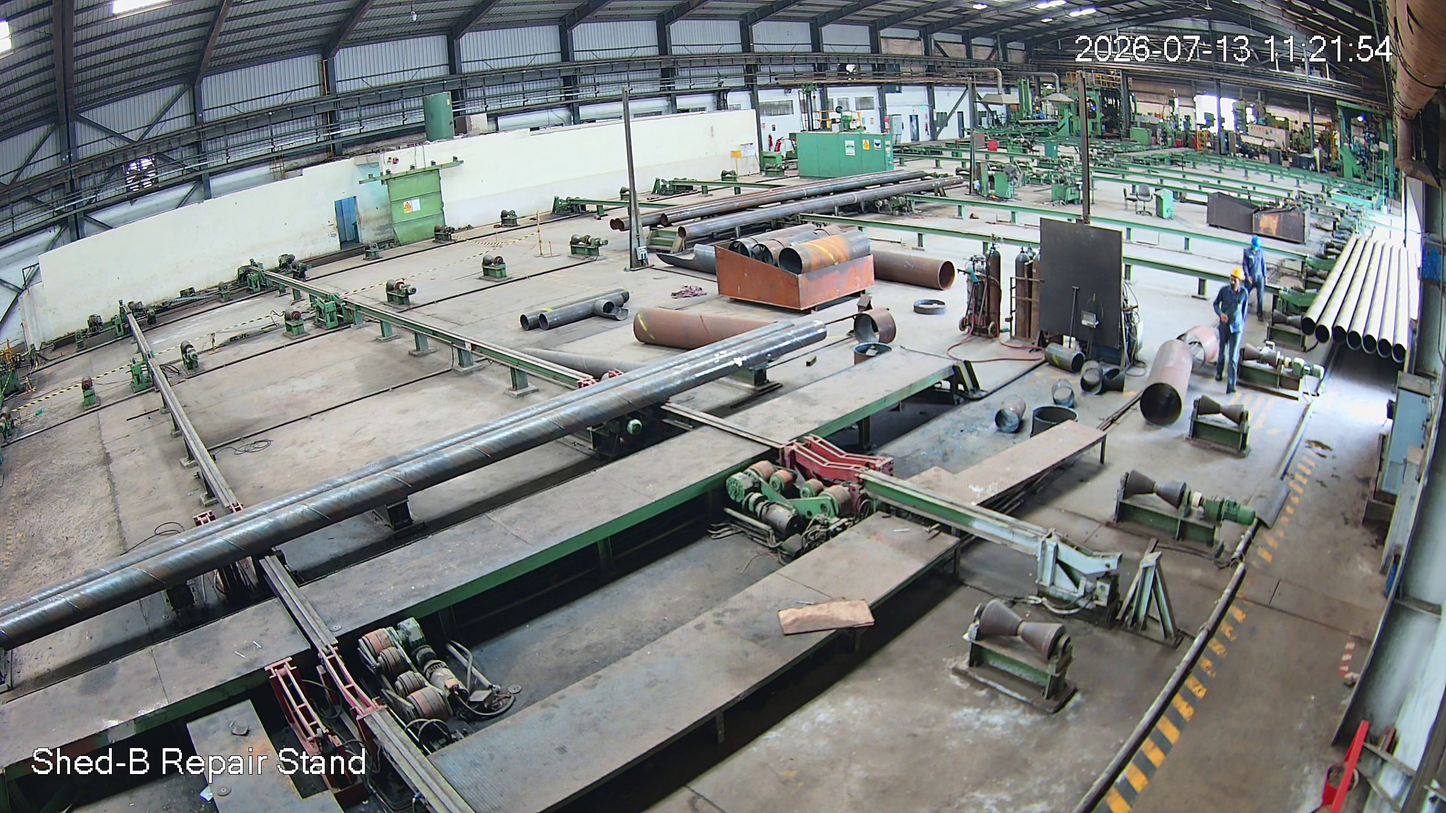Helmet: (1229, 267, 1241, 292)
Person: (1212, 268, 1252, 392)
